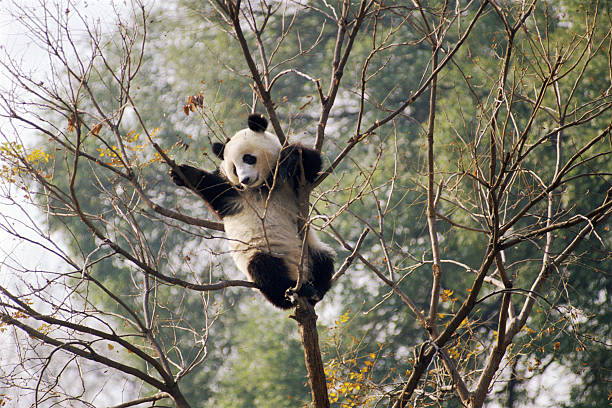panda: (198, 103, 291, 197)
